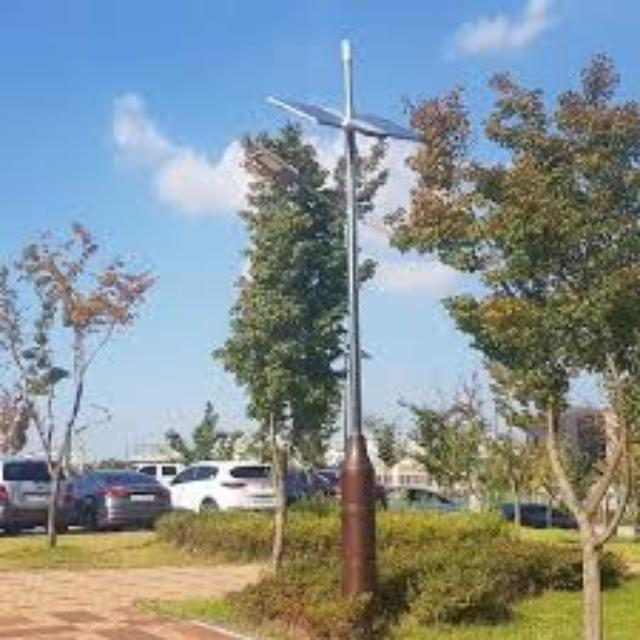Street-Lamp: (273, 12, 442, 620)
